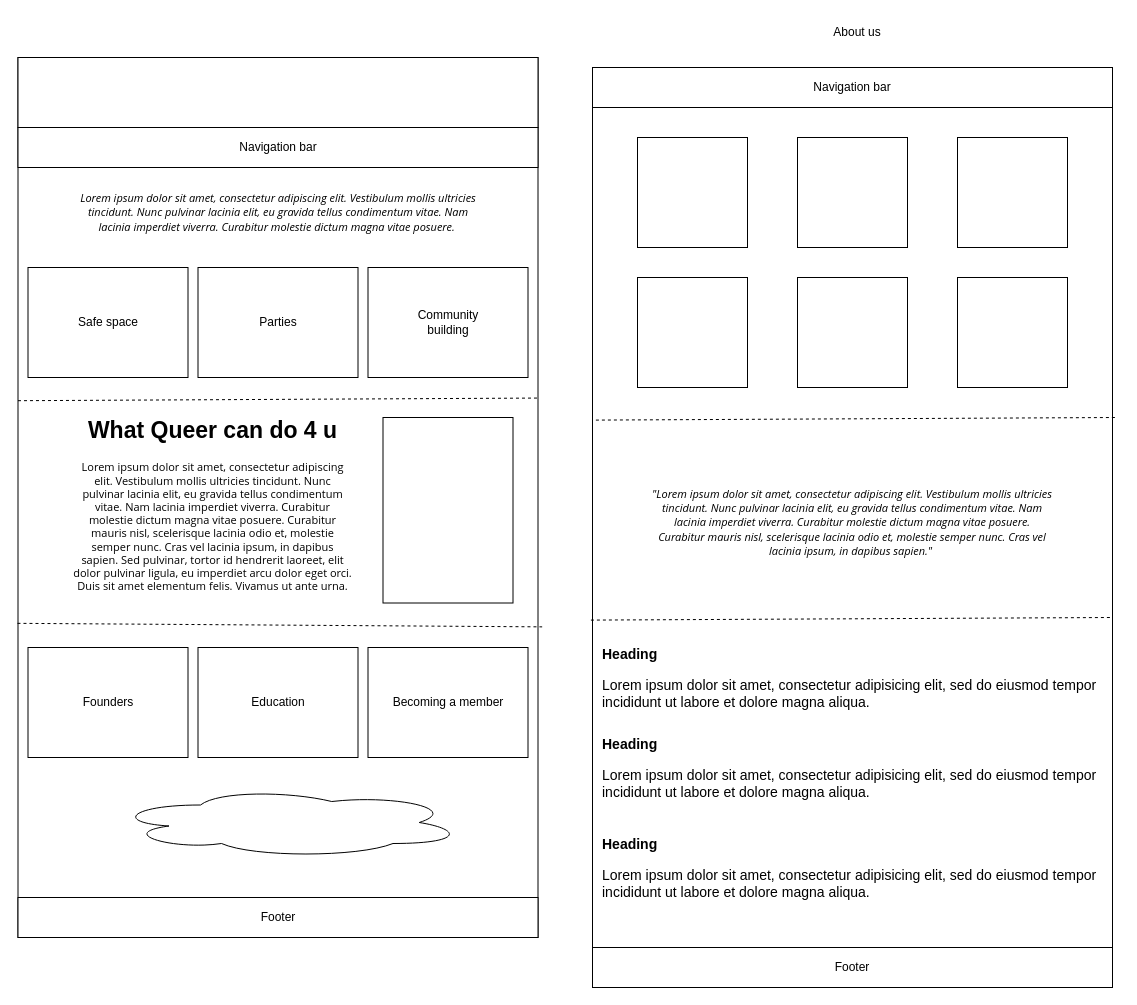
Image size: 1137x1005. Some labels were removed from this diagram. Each missing label, with the centre of its shape:
"Agenda" belongs at (447,509).
"Banner" belongs at (277,92).
"Quote/Thank you" belongs at (287,822).
